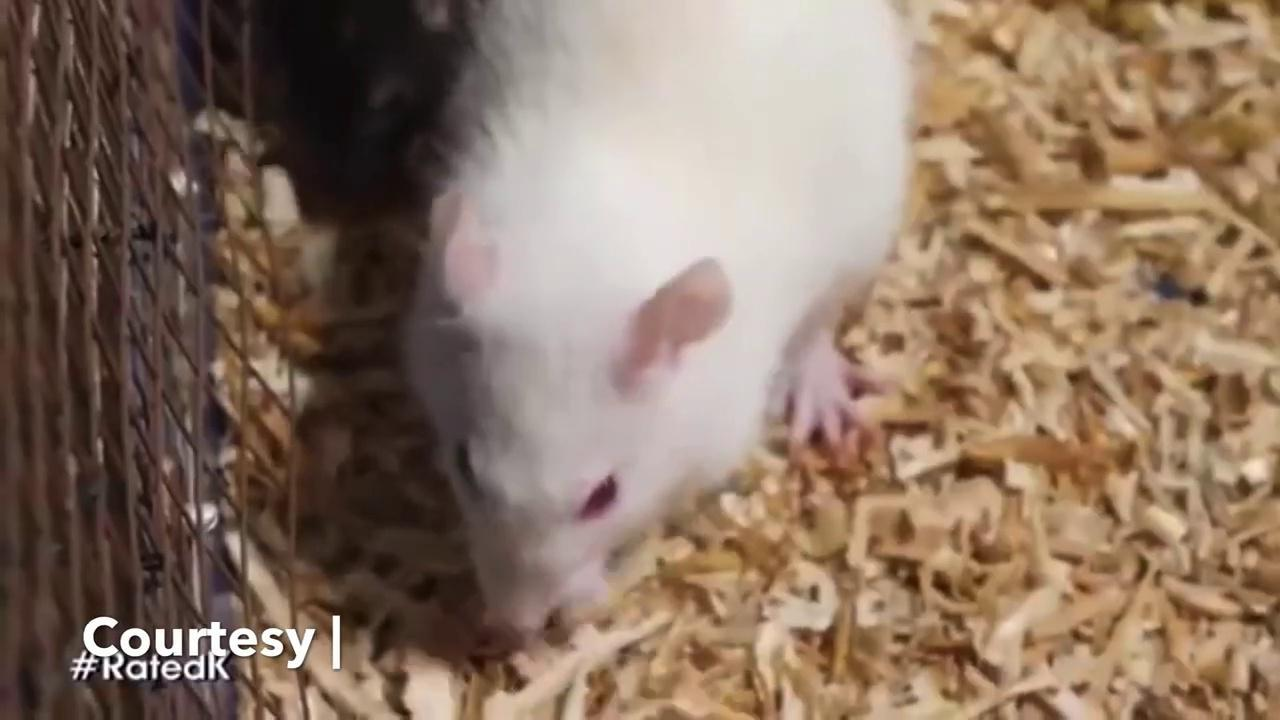rat: (402, 0, 912, 631)
